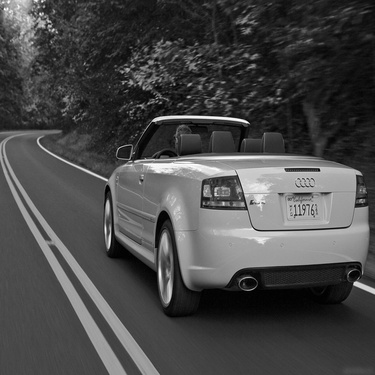car: (85, 105, 370, 324)
